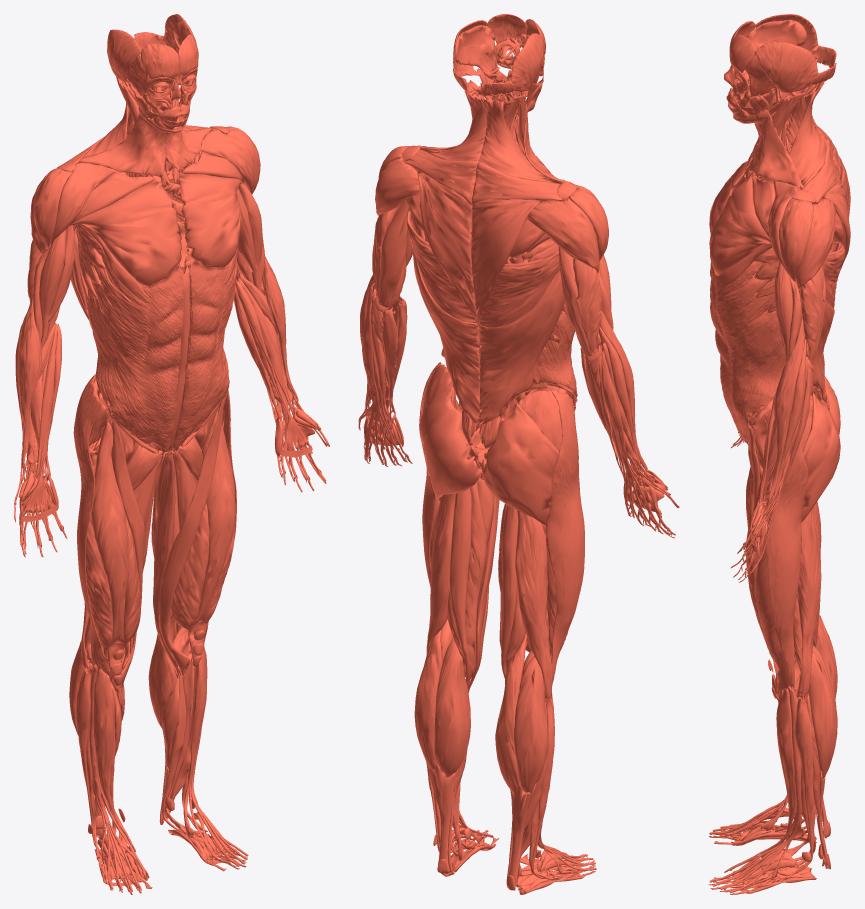
File: corps-muscles-mobile.glb
3 views of the same model, side by side, from view 1: azimuth 30°, elevation 25°; view 2: azimuth 150°, elevation 25°; view 3: azimuth 270°, elevation 25° (orthographic).
Parts seen in each view (by area): view 1: External abdominal oblique muscle.l, (Iliopectineal bursa).l; view 2: External abdominal oblique muscle.l, (Iliopectineal bursa).l; view 3: External abdominal oblique muscle.l, (Iliopectineal bursa).l.
Boxes of the visible parts, x1,y1,x2,y2 form: External abdominal oblique muscle.l: (14, 14, 329, 894); (Iliopectineal bursa).l: (57, 126, 248, 891); External abdominal oblique muscle.l: (358, 14, 679, 894); (Iliopectineal bursa).l: (374, 145, 597, 890); External abdominal oblique muscle.l: (708, 14, 850, 894); (Iliopectineal bursa).l: (709, 190, 830, 893).
Size of the model in its own units: 0.66 by 1.67 by 0.2586.
